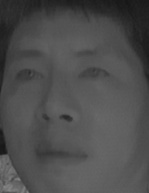eye: (76, 63, 112, 84), (12, 67, 45, 85)
mouth: (32, 135, 90, 169)
